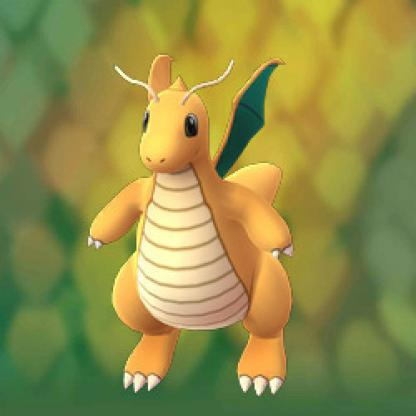Dragonite: (70, 49, 320, 399)
